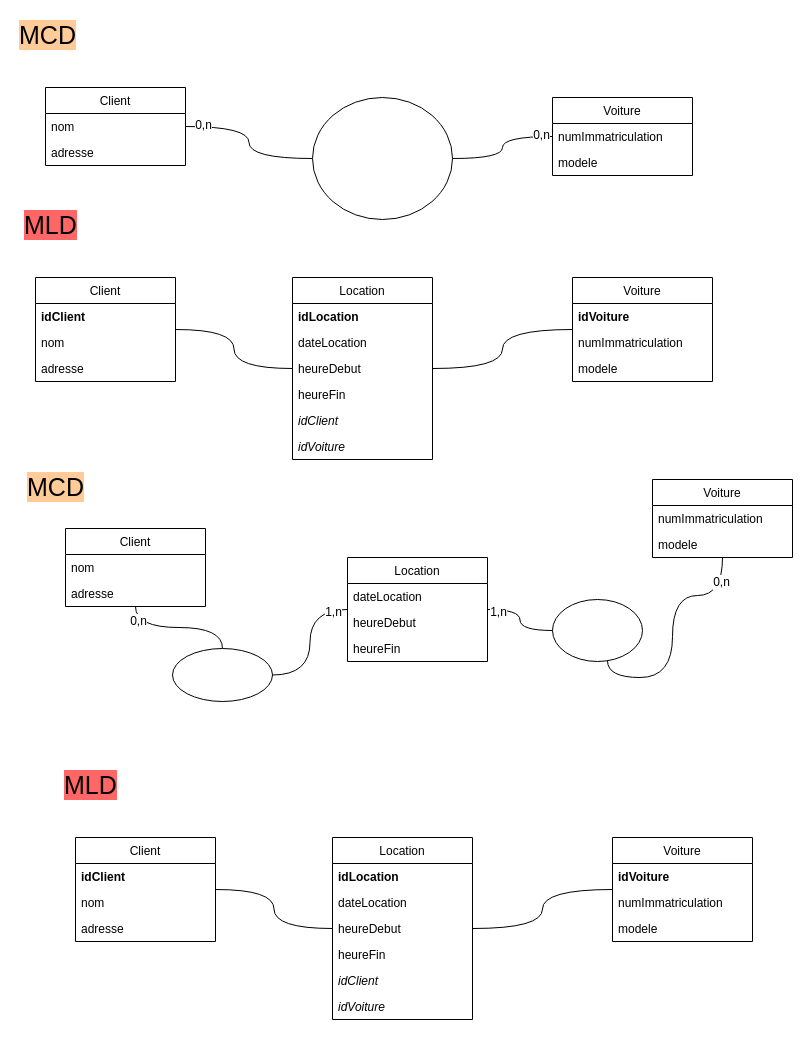
Some shapes in this 810 by 1039 pixel diagram are drawn without their labels. The centre of each missing label's shape, as x and y in pixels:
correspond: the point at 597,630
fait: the point at 222,675
loue dateLocation heureDebut heureFin: the point at 382,158
